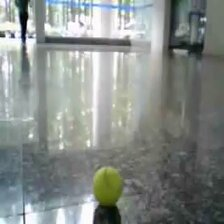tennis: (93, 167, 121, 203)
